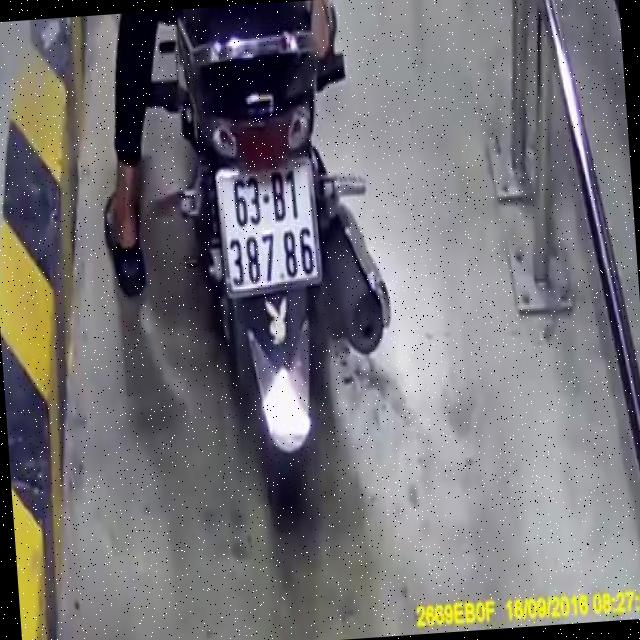license_plate: (213, 164, 324, 298)
